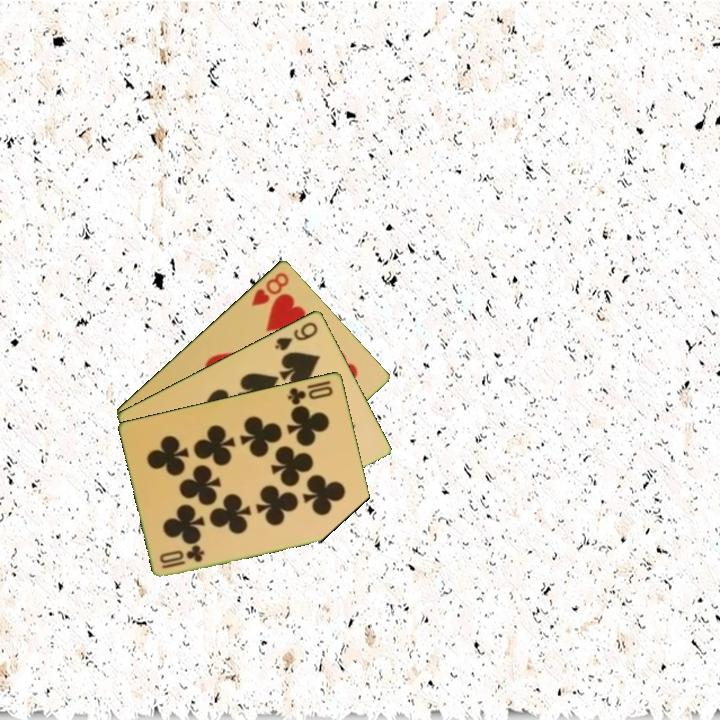10c: (156, 542, 208, 571), (284, 382, 336, 407)
8h: (248, 268, 292, 309)
9s: (271, 318, 321, 353)
